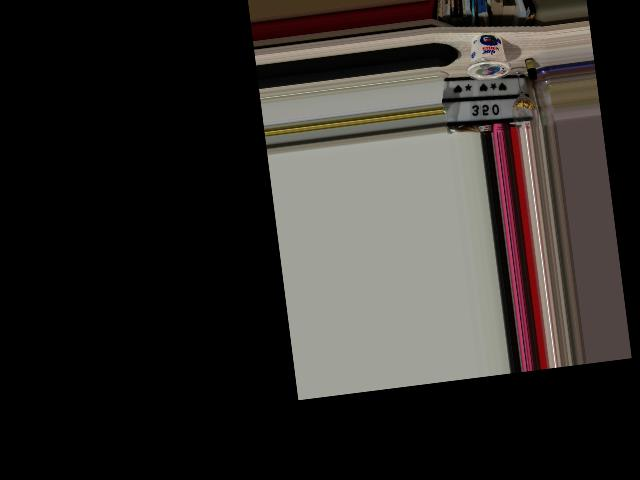cotage: (466, 30, 508, 83)
